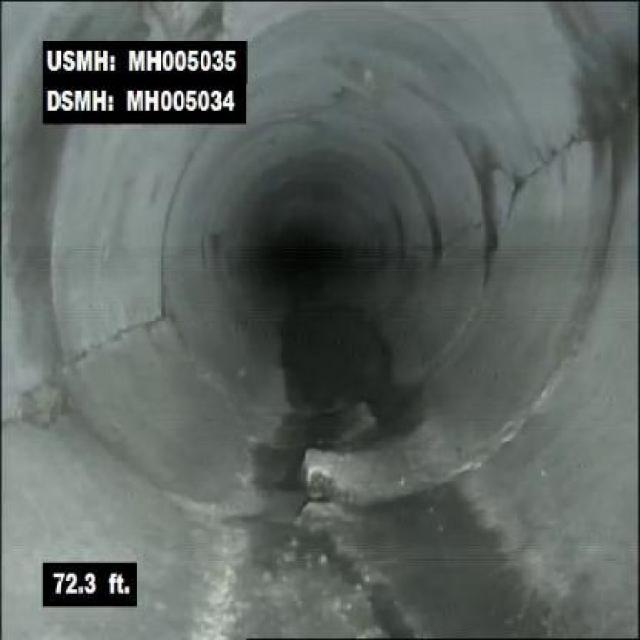Buckling: (297, 443, 412, 591)
Crack: (509, 112, 611, 197), (58, 314, 171, 378)
Hole: (1, 382, 56, 436), (369, 596, 425, 638)
